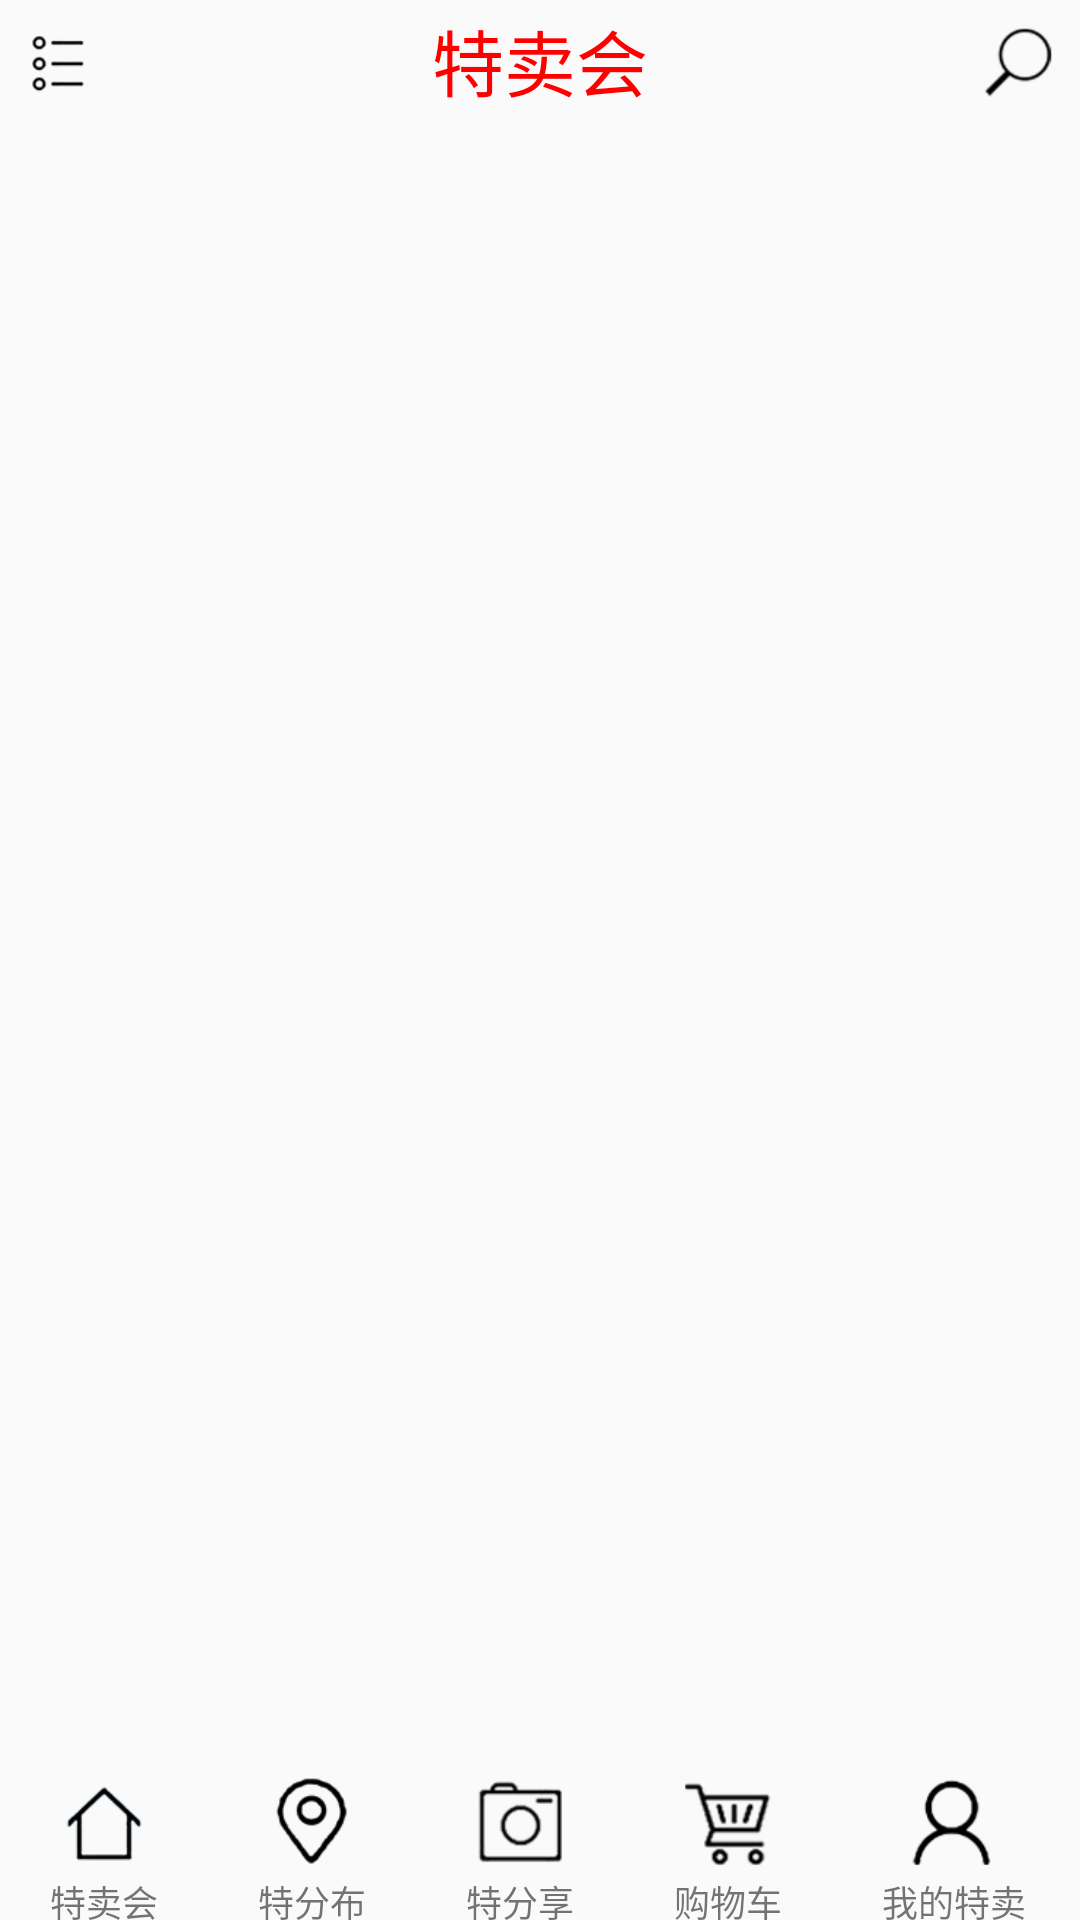

Icons on this 1080x1920 Android screen, each with the point to tap as [x,y]:
home bottombar: [104,1824]
home bottombar location: [311,1821]
home bottombar profile: [951,1822]
search: [1018,62]
